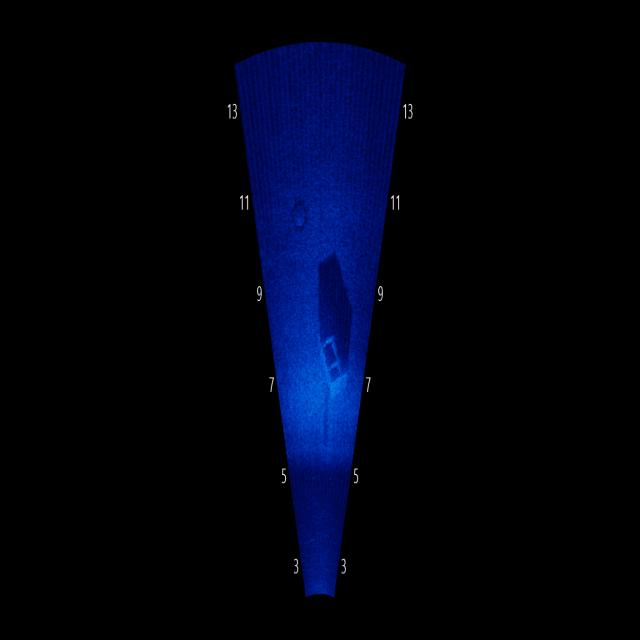square: (312, 312, 350, 415)
